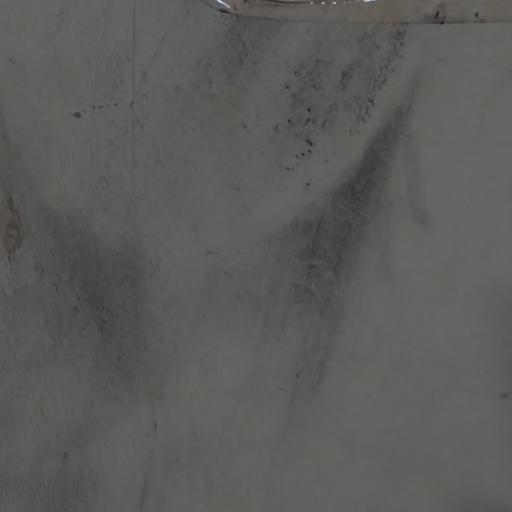stain: (0, 0, 461, 415)
